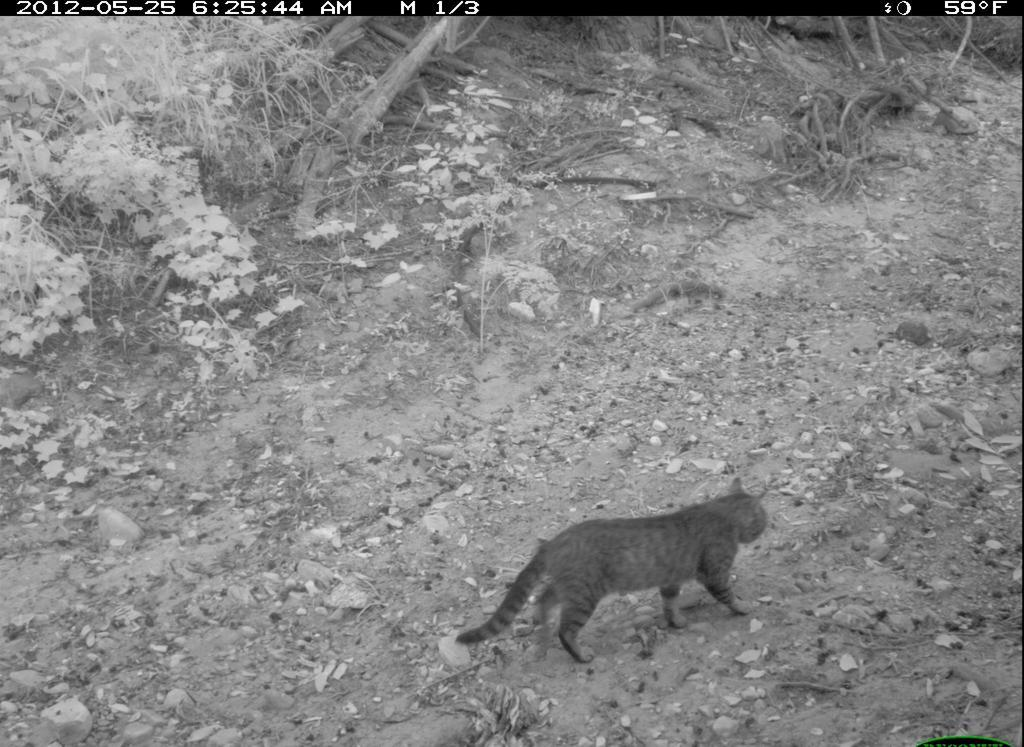cat: (437, 469, 783, 669)
